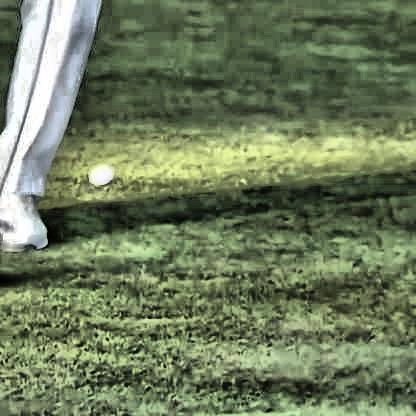golfball: (87, 159, 111, 183)
